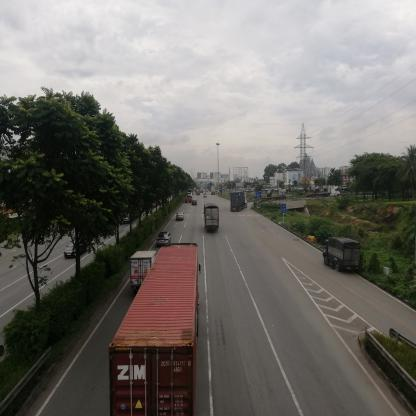car: (156, 232, 172, 249), (176, 213, 185, 221)
container: (157, 242, 201, 416), (316, 187, 342, 202), (232, 192, 248, 213), (263, 190, 288, 200)
truck: (325, 237, 362, 271), (131, 252, 157, 281), (204, 205, 221, 232)
